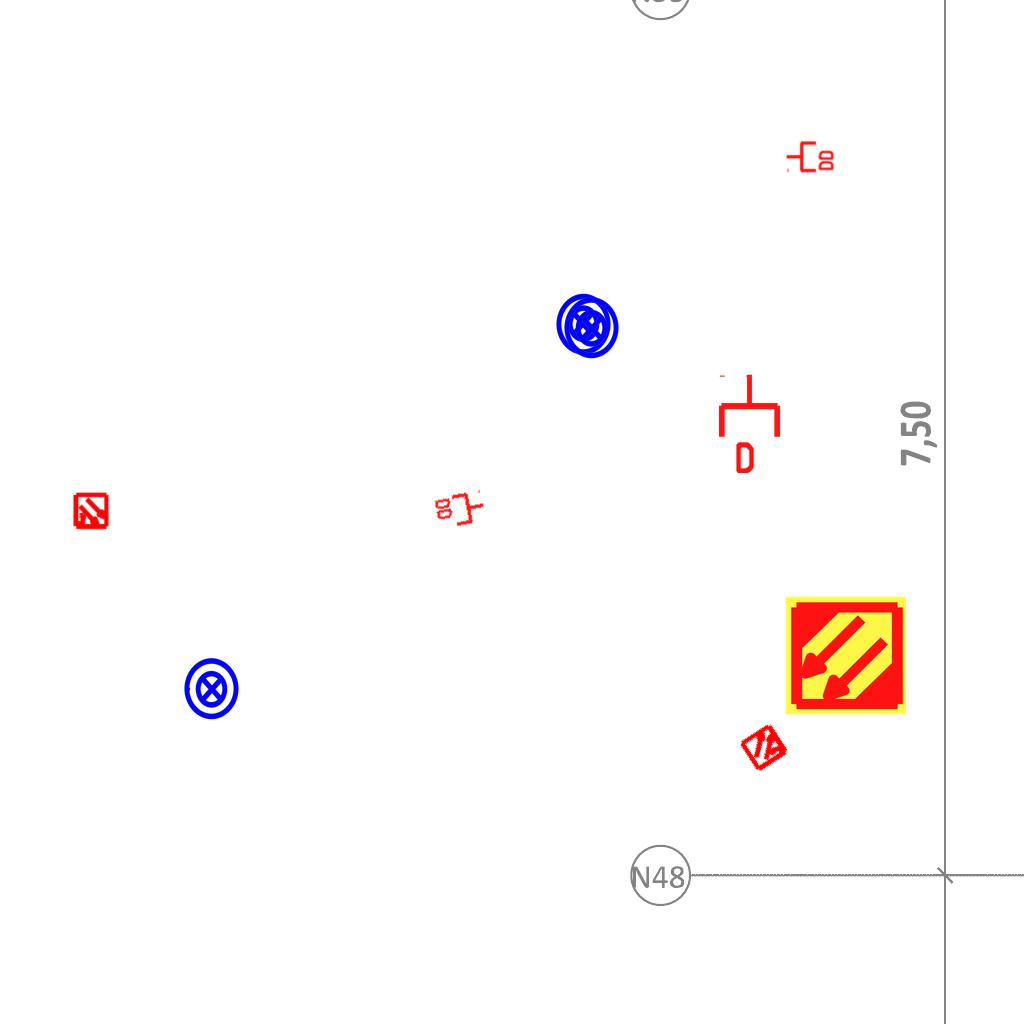ASR_Ansaugrauchmelder: (783, 593, 908, 718)
Datenanschluss_einfach: (715, 373, 784, 473)
Datenanschluss_zweifach: (431, 488, 489, 533), (785, 139, 836, 173)
OT_Multisensormelder_(Kombination_RMO_WMD): (726, 708, 804, 786), (63, 484, 119, 540)
Taster_beleuchtet: (550, 291, 616, 357), (179, 656, 245, 722), (559, 295, 625, 361)
